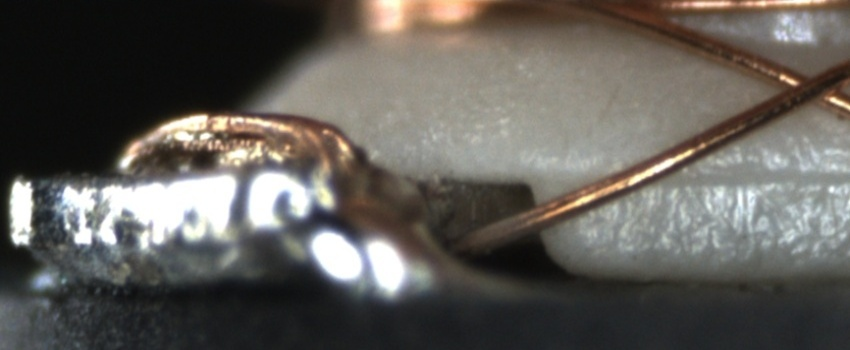CL: (766, 57, 848, 114)
DL: (654, 146, 849, 203)
TE: (115, 106, 365, 183)
